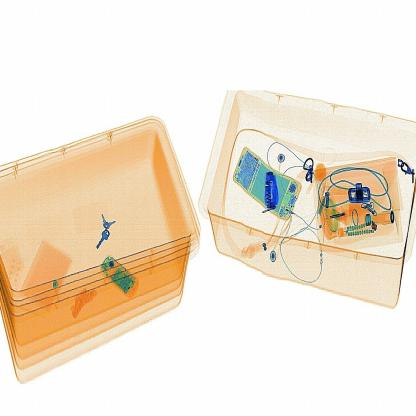scissors: (260, 162, 290, 216)
